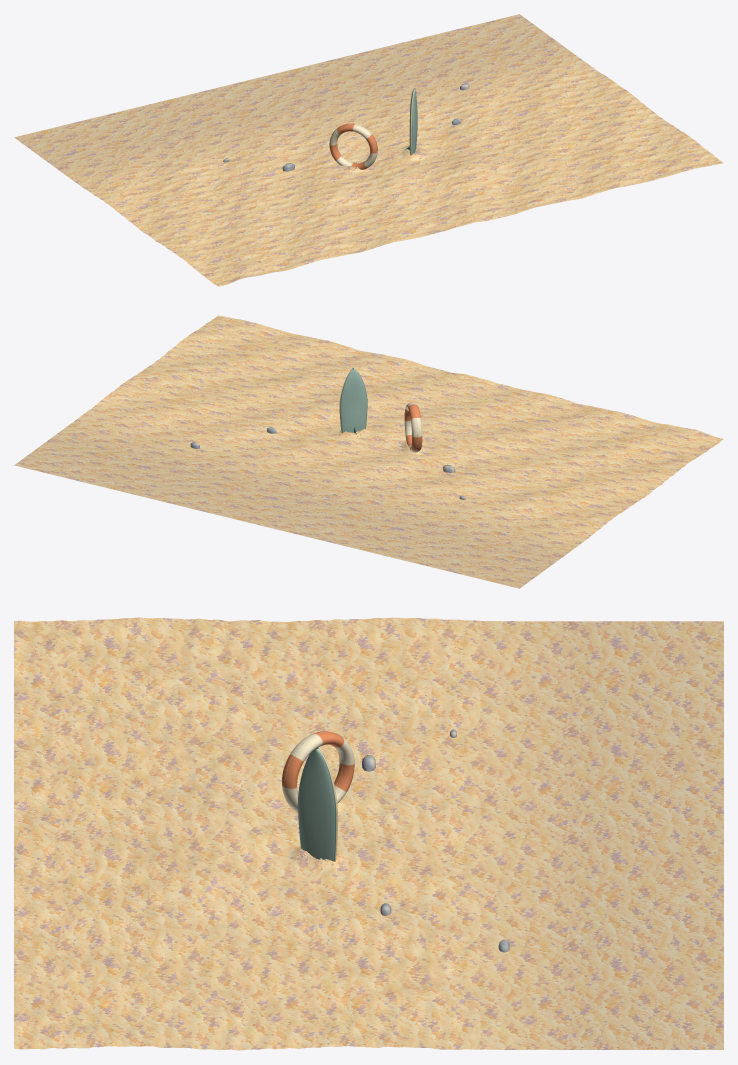
The model's file is about-beach-crafted-v2.glb.
3 renders of one model, top to bottom at view 1: azimuth 30°, elevation 25°; view 2: azimuth 150°, elevation 25°; view 3: azimuth 270°, elevation 25°, orthographic. The views are drawn at different scales.
Parts seen in each view (by area): view 1: Beach_Terrain, Ring_InflatedBody, Board_SculptedDeckAndRails; view 2: Beach_Terrain, Board_SculptedDeckAndRails, Ring_InflatedBody; view 3: Beach_Terrain, Board_SculptedDeckAndRails, Ring_InflatedBody.
Part boxes in pixels (left/top/right/bottom): Beach_Terrain: left=14, top=14, right=723, bottom=286; Ring_InflatedBody: left=329, top=123, right=377, bottom=169; Board_SculptedDeckAndRails: left=409, top=88, right=417, bottom=155; Beach_Terrain: left=14, top=315, right=723, bottom=588; Board_SculptedDeckAndRails: left=339, top=368, right=367, bottom=433; Ring_InflatedBody: left=404, top=402, right=422, bottom=452; Beach_Terrain: left=14, top=617, right=723, bottom=1050; Board_SculptedDeckAndRails: left=298, top=747, right=337, bottom=861; Ring_InflatedBody: left=282, top=731, right=354, bottom=812.
Bounding box in the file's own units: 60 × 7.64 × 42.
4 materials, 1 textured.
